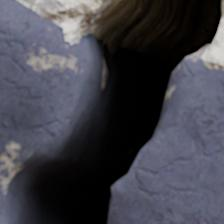broken_brick: (109, 54, 223, 223), (0, 0, 85, 223)
crack: (2, 0, 223, 223)
